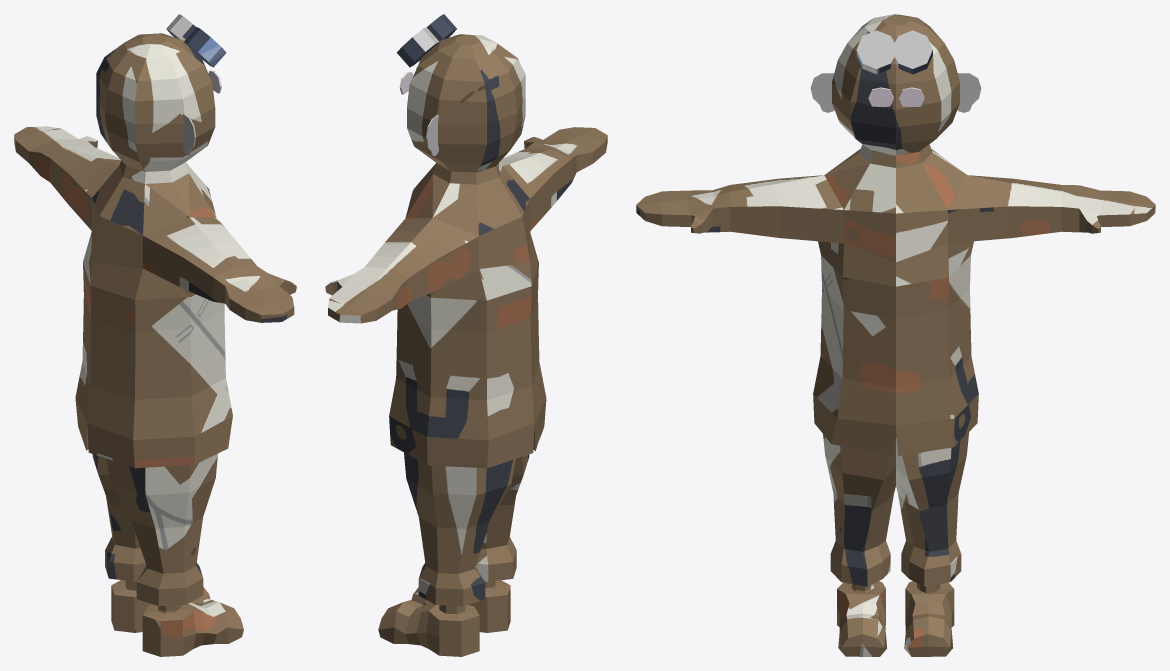
Rendered from Scientist01.fbx.
3 views of the same model, side by side, from view 1: azimuth 30°, elevation 25°; view 2: azimuth 150°, elevation 25°; view 3: azimuth 270°, elevation 25° (orthographic).
Parts seen in each view (by area): view 1: Human, Goggles; view 2: Human, Goggles; view 3: Human, Goggles, Ears, Eyeballs.
Boxes of the visible parts, left/top/right/bottom form: Human: left=14, top=33, right=296, bottom=656; Goggles: left=166, top=14, right=226, bottom=67; Human: left=325, top=34, right=607, bottom=656; Goggles: left=397, top=14, right=456, bottom=67; Human: left=636, top=14, right=1155, bottom=656; Goggles: left=856, top=30, right=932, bottom=74; Ears: left=810, top=73, right=981, bottom=112; Eyeballs: left=868, top=87, right=924, bottom=106.
Size of the model in its own units: 45.15 by 196 by 150.
